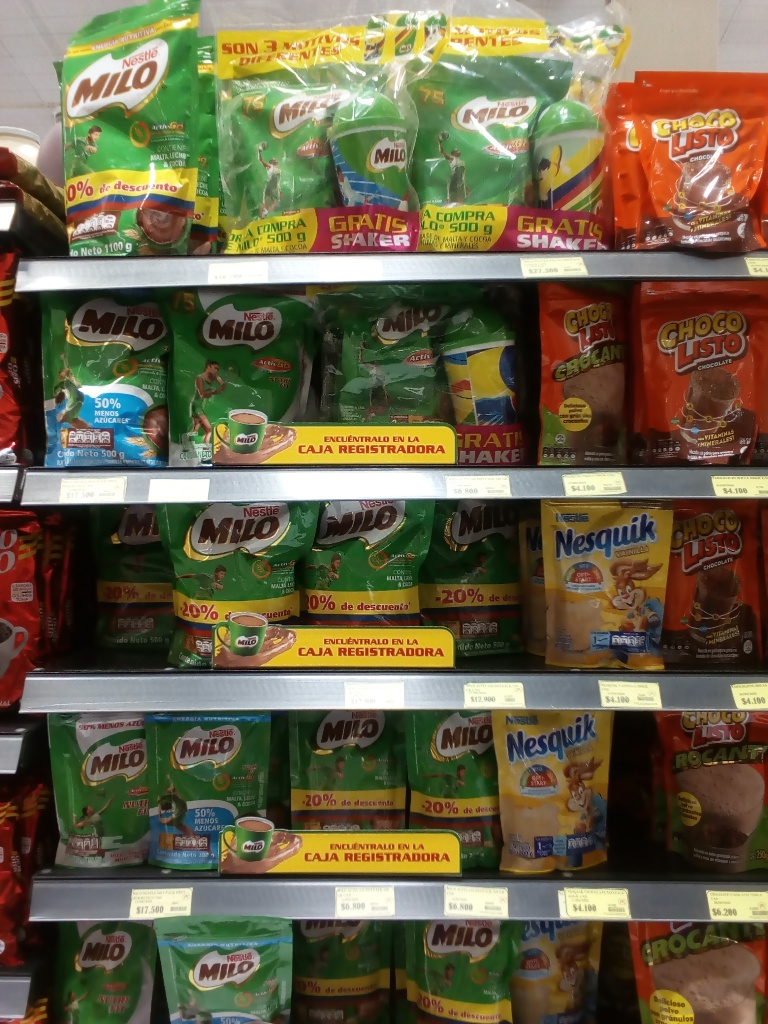COL0170102DYP25000: (527, 279, 646, 468)
COL0170103DYP20000: (647, 279, 764, 467)
COL0170203DYP25000: (277, 710, 400, 872)
COL0170203DYP50000: (213, 36, 330, 207)
COL0170205DYP20000: (145, 708, 270, 882)
COL0170205DYP50000: (40, 290, 166, 468)
COL0170306DYP20000: (532, 503, 668, 675)
